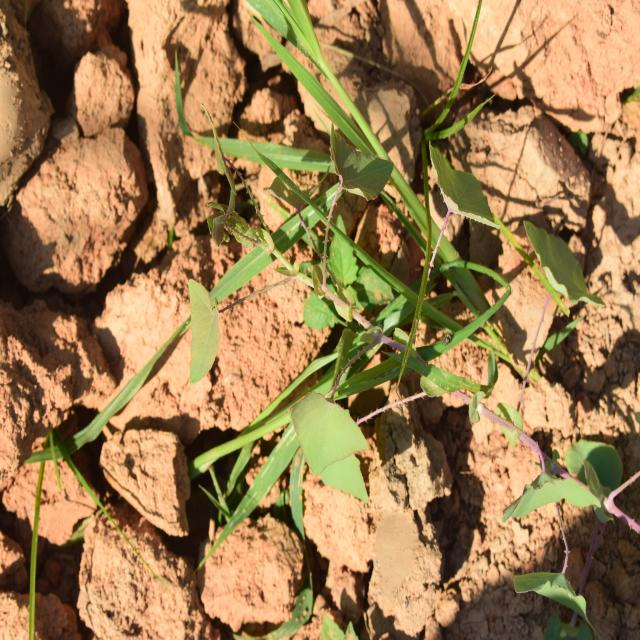Asiatic_Smartweed: (281, 376, 383, 510), (422, 131, 510, 251), (170, 254, 234, 400), (318, 115, 402, 215), (538, 218, 600, 340)
